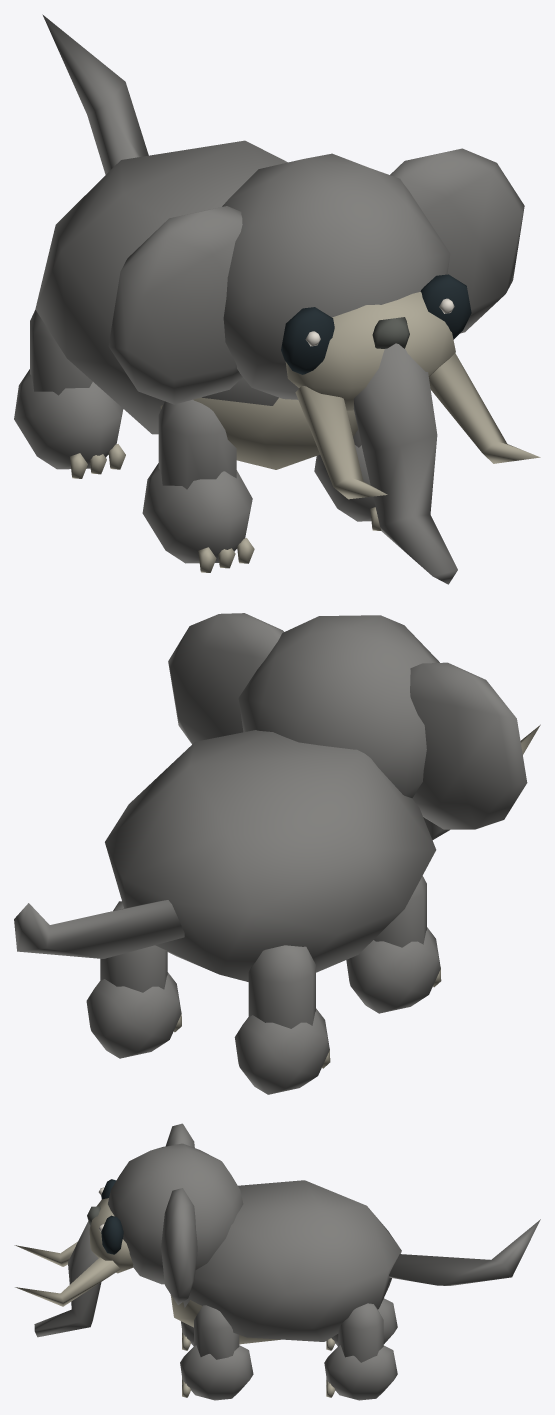
File: org_forestelephant.glb
3 views of the same model, one above another, from view 1: azimuth 30°, elevation 25°; view 2: azimuth 150°, elevation 25°; view 3: azimuth 270°, elevation 25° (orthographic). The views are drawn at different scales.
Visible parts, largest first — view 1: Head, Body, Leg_FR, Leg_BR, Tail, Eye_R, Eye_L, Leg_FL; view 2: Body, Head, Leg_BR, Leg_BL, Leg_FR, Tail; view 3: Body, Head, Leg_BL, Leg_FL, Tail, Eye_L, Leg_BR.
Boxes of the visible parts, bbox=[...] form: Head: bbox=[108, 148, 540, 584]; Body: bbox=[35, 140, 358, 469]; Leg_FR: bbox=[142, 399, 254, 572]; Leg_BR: bbox=[14, 310, 125, 478]; Tail: bbox=[42, 14, 148, 174]; Eye_R: bbox=[281, 307, 334, 374]; Eye_L: bbox=[420, 274, 471, 339]; Leg_FL: bbox=[314, 430, 381, 530]; Body: bbox=[105, 730, 436, 981]; Head: bbox=[168, 613, 540, 840]; Leg_BR: bbox=[234, 945, 330, 1094]; Leg_BL: bbox=[86, 901, 181, 1058]; Leg_FR: bbox=[346, 876, 441, 1013]; Tail: bbox=[14, 900, 184, 958]; Body: bbox=[170, 1180, 401, 1344]; Head: bbox=[14, 1123, 243, 1337]; Leg_BL: bbox=[324, 1303, 397, 1400]; Leg_FL: bbox=[180, 1305, 253, 1400]; Tail: bbox=[389, 1219, 540, 1285]; Eye_L: bbox=[98, 1215, 123, 1254]; Leg_BR: bbox=[326, 1298, 397, 1350].
Size of the model in its own units: 1.12 by 1.03 by 2.2.
